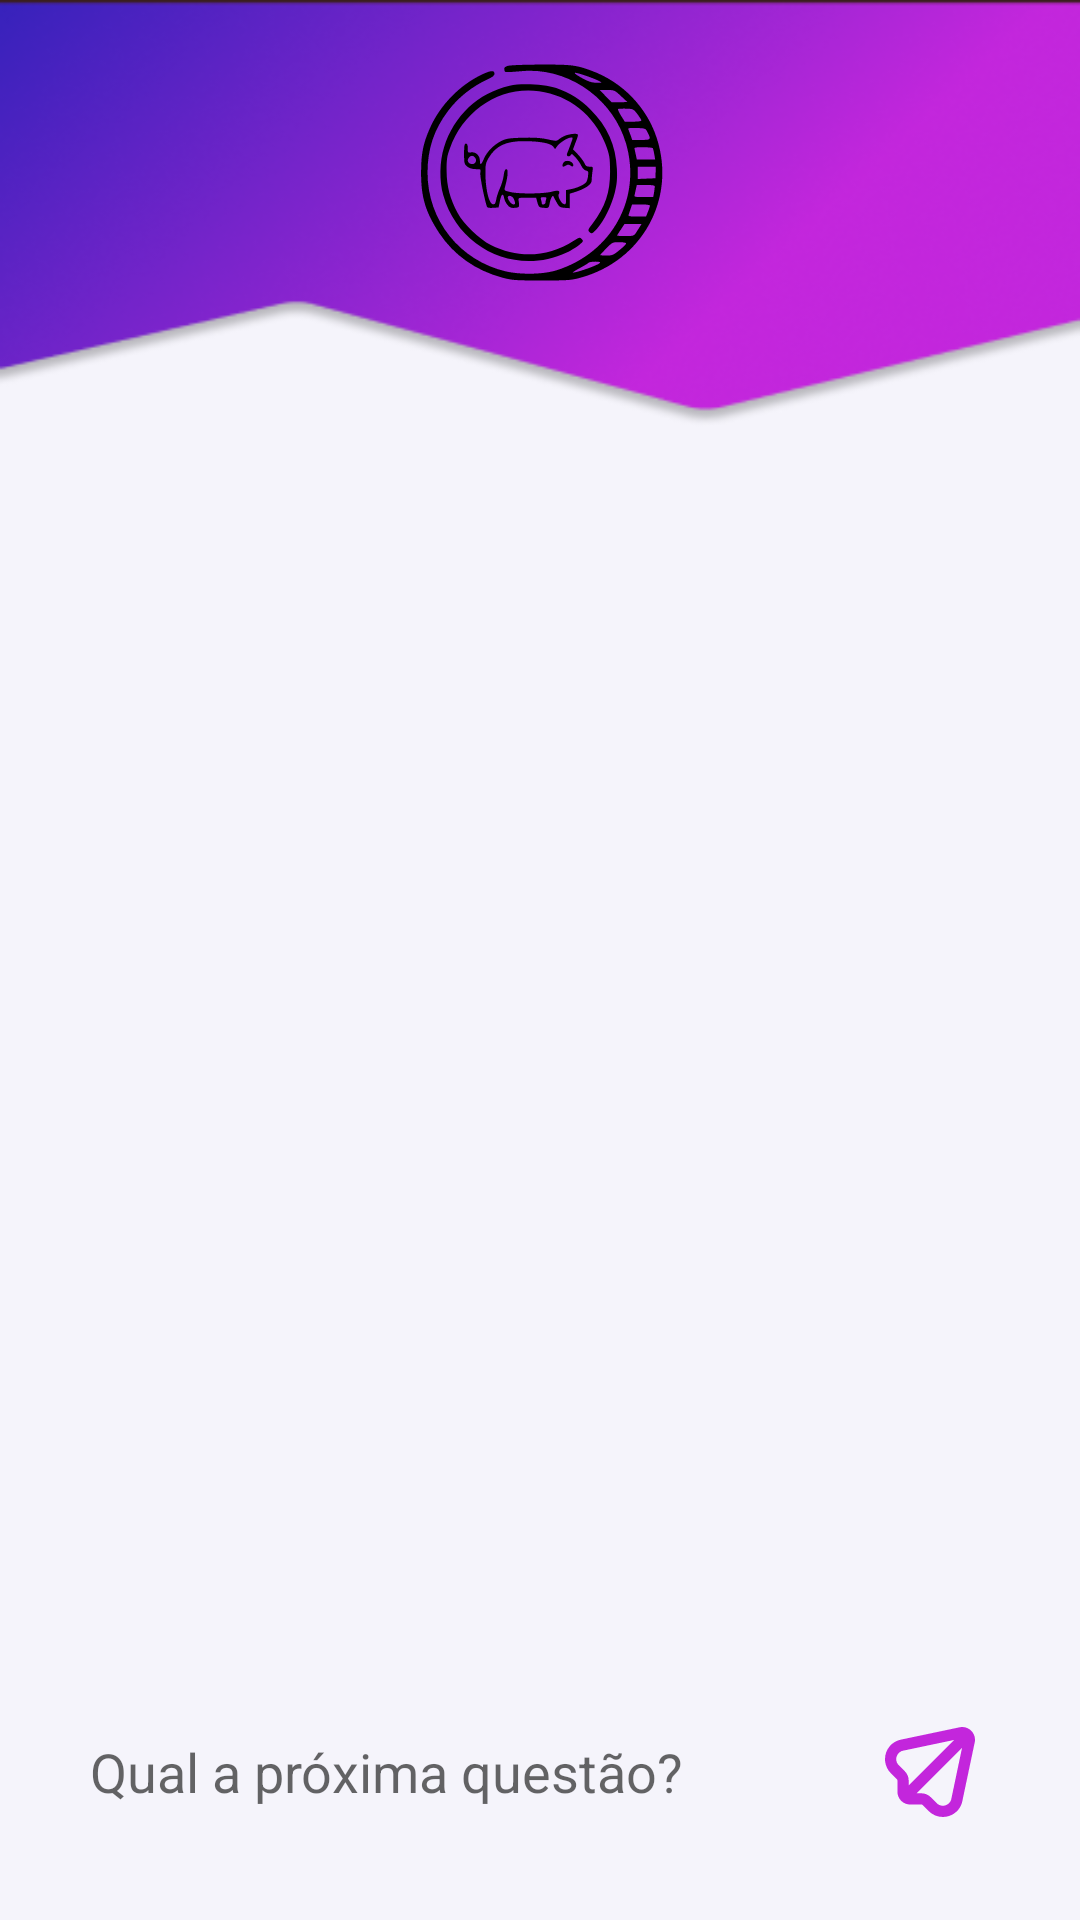

Icons on this 1080px x 1920px Android screen, each with the point to tap as point (x, y):
plane paper: point (930, 1772)
